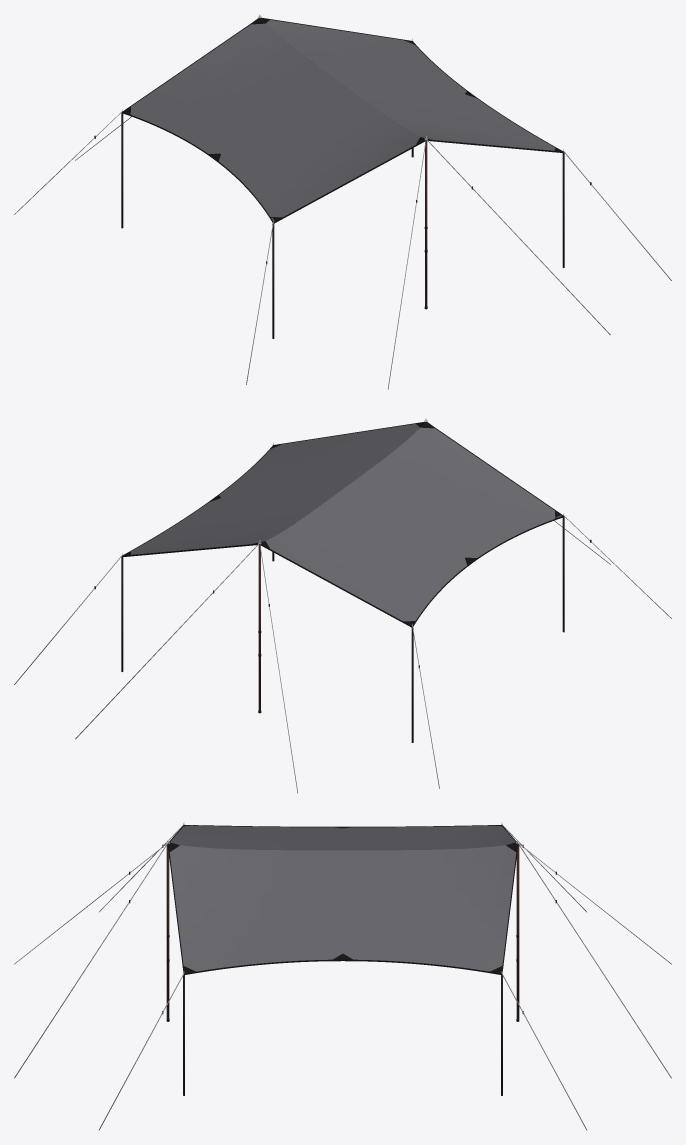
Rendered from northpeak-player-tarp-2.glb.
3 views of the same model, one above another, from view 1: azimuth 30°, elevation 25°; view 2: azimuth 150°, elevation 25°; view 3: azimuth 270°, elevation 25° (orthographic). The views are drawn at different scales.
Parts seen in each view (by area): view 1: northpeak-player-tarp-2-top, northpeak-player-tarp-2-binding, northpeak-player-tarp-2-guy, northpeak-player-tarp-2-cornerpole; view 2: northpeak-player-tarp-2-top, northpeak-player-tarp-2-binding, northpeak-player-tarp-2-guy, northpeak-player-tarp-2-cornerpole; view 3: northpeak-player-tarp-2-top, northpeak-player-tarp-2-guy, northpeak-player-tarp-2-binding, northpeak-player-tarp-2-mainpole, northpeak-player-tarp-2-cornerpole.
Boxes of the visible parts, x1=… form: northpeak-player-tarp-2-top: x1=130, y1=18, x2=555, y2=217; northpeak-player-tarp-2-binding: x1=122, y1=17, x2=563, y2=222; northpeak-player-tarp-2-guy: x1=14, y1=17, x2=671, y2=389; northpeak-player-tarp-2-cornerpole: x1=121, y1=112, x2=564, y2=338; northpeak-player-tarp-2-top: x1=130, y1=422, x2=555, y2=621; northpeak-player-tarp-2-binding: x1=122, y1=421, x2=563, y2=626; northpeak-player-tarp-2-guy: x1=14, y1=421, x2=671, y2=793; northpeak-player-tarp-2-cornerpole: x1=121, y1=516, x2=564, y2=742; northpeak-player-tarp-2-top: x1=169, y1=825, x2=516, y2=971; northpeak-player-tarp-2-guy: x1=14, y1=824, x2=671, y2=1130; northpeak-player-tarp-2-binding: x1=167, y1=825, x2=518, y2=974; northpeak-player-tarp-2-mainpole: x1=166, y1=845, x2=519, y2=1019; northpeak-player-tarp-2-cornerpole: x1=183, y1=975, x2=502, y2=1095.
Size of the model in its own units: 5.17 by 2 by 6.58.
